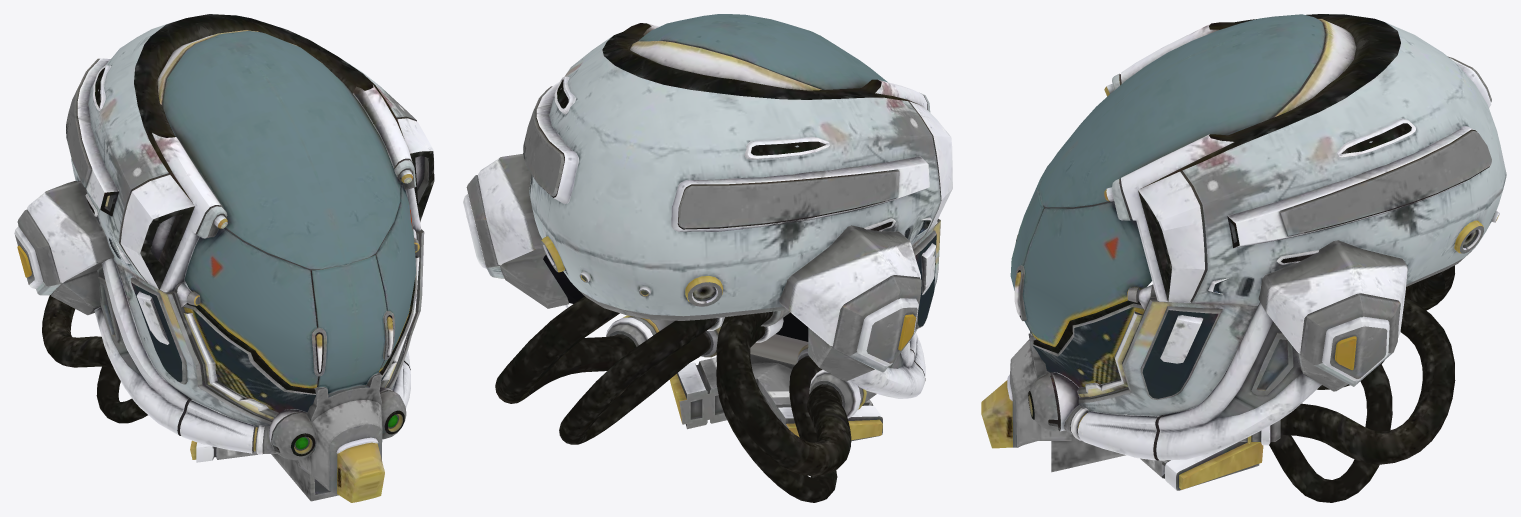
The model's file is DamagedHelmet.opt.glb.
3 views of the same model, side by side, from view 1: azimuth 30°, elevation 25°; view 2: azimuth 150°, elevation 25°; view 3: azimuth 270°, elevation 25° (orthographic). The views are drawn at different scales.
Parts seen in each view (by area): view 1: node_damagedHelmet_-6514; view 2: node_damagedHelmet_-6514; view 3: node_damagedHelmet_-6514.
Boxes of the visible parts, left/top/right/bottom form: node_damagedHelmet_-6514: left=14, top=14, right=434, bottom=502; node_damagedHelmet_-6514: left=463, top=14, right=952, bottom=502; node_damagedHelmet_-6514: left=981, top=14, right=1506, bottom=502.
Size of the model in its own units: 1.89 by 1.8 by 2.
1 material, 1 textured.
